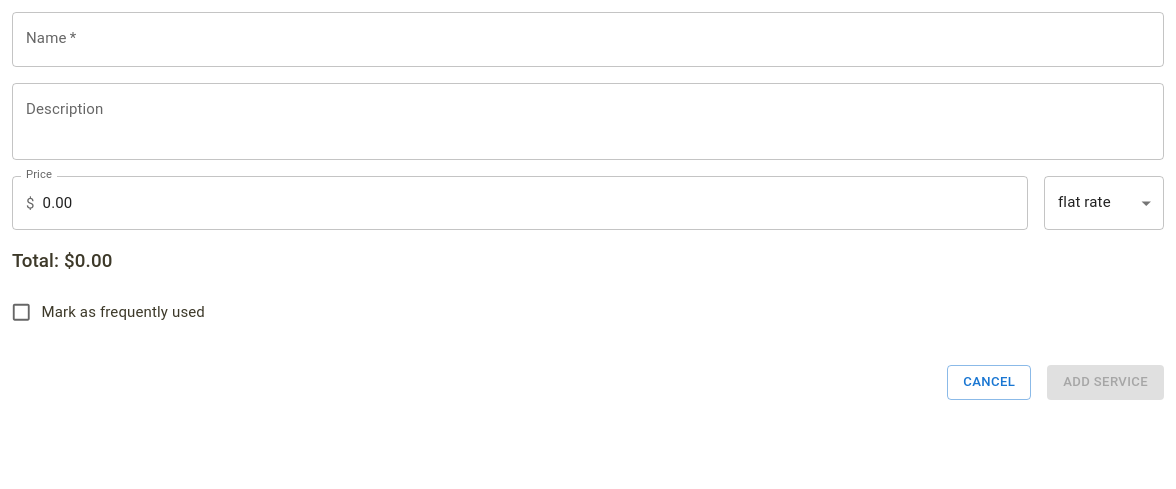
Duplicate Service Name Handling › AddServiceForm › should clear error when user types in name field
# Fill in and submit to trigger error
Type "Existing Service" into the field labelled "Name *" at x=588, y=39, box [12,12,1164,67]
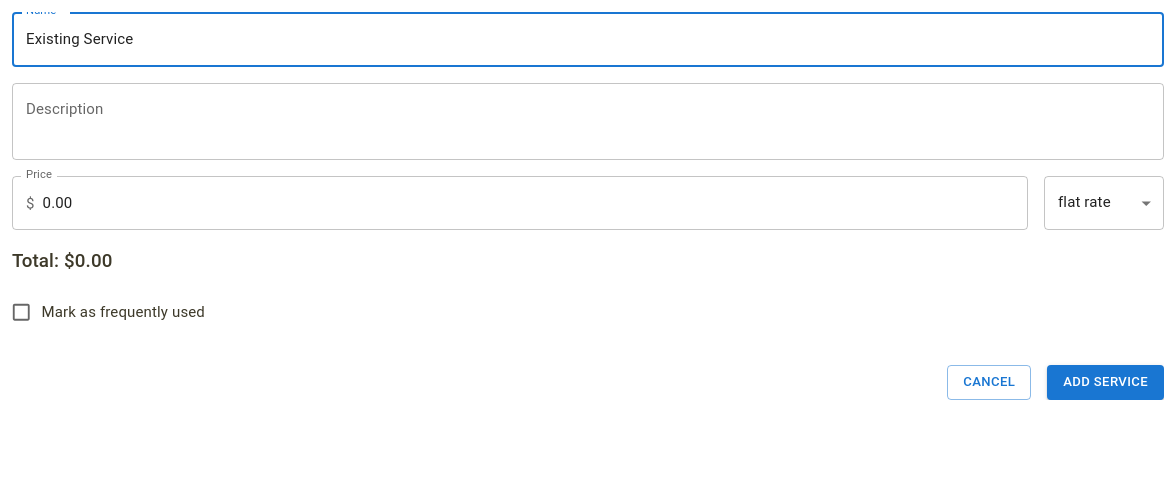
Replace the text in the field labelled "Price" with "50.00" at x=535, y=203, box [43,176,1028,230]
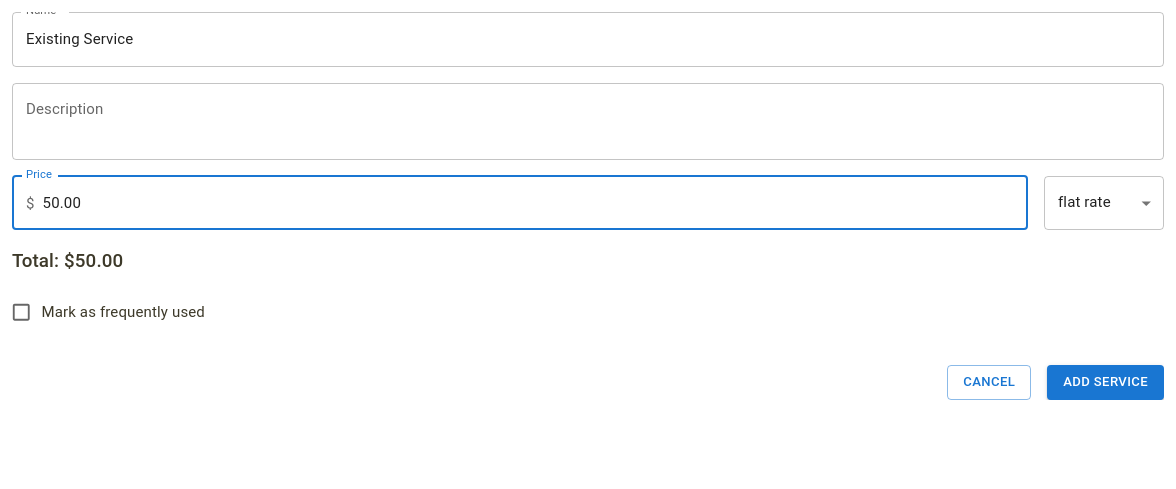
Click the button "Add Service" at x=1106, y=382, box [1047,365,1164,400]
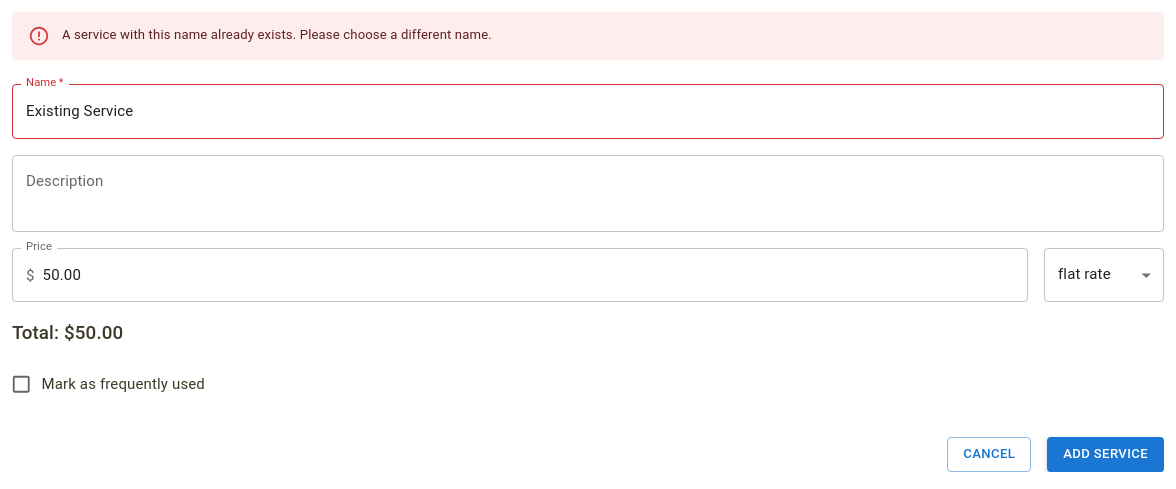
Now the text "A service with this name already exists" is shown, box [62,27,492,42]
# Type in the name field to clear error
Type " New" into the field labelled "Name *" at x=588, y=111, box [12,84,1164,139]
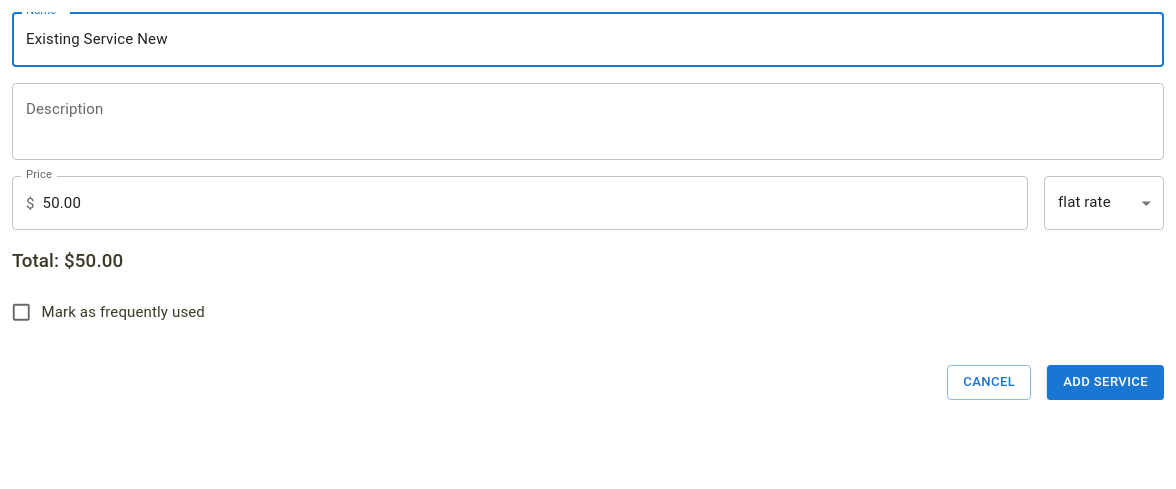
Now the text "A service with this name already exists" is gone
